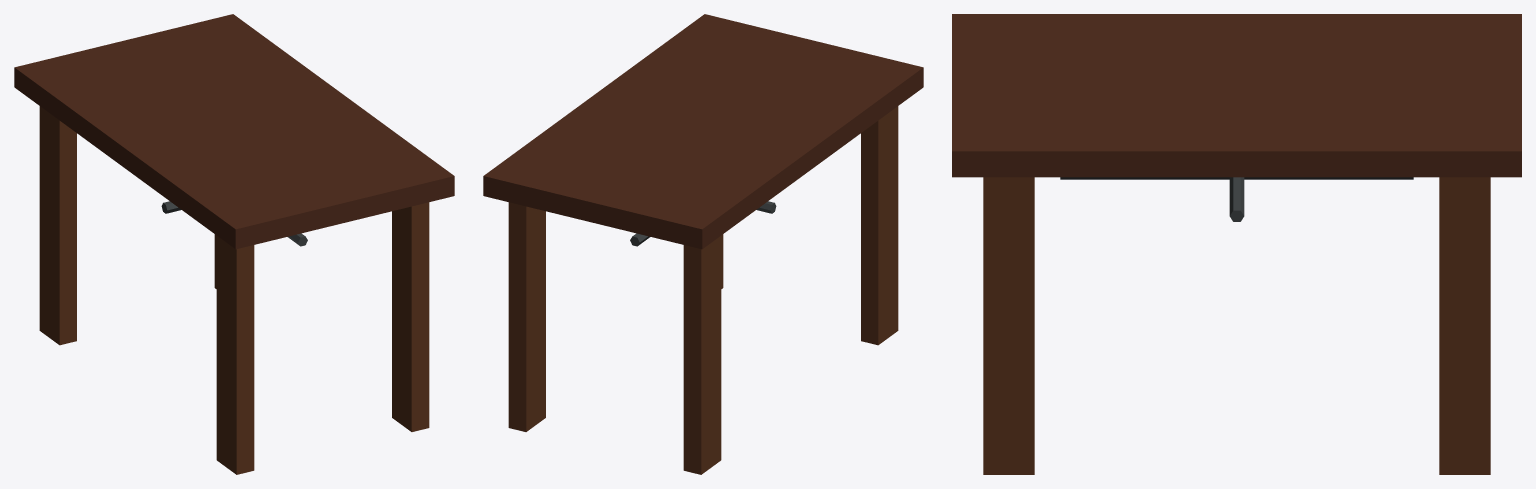
The model's file is table_football.glb.
3 views of the same model, side by side, from view 1: azimuth 30°, elevation 25°; view 2: azimuth 150°, elevation 25°; view 3: azimuth 270°, elevation 25° (orthographic). The views are drawn at different scales.
Visible parts, largest first — view 1: body; view 2: body; view 3: body, move_rods.
Part boxes in pixels (bbox=[...]): body: bbox=[14, 14, 454, 474]; body: bbox=[483, 14, 923, 474]; body: bbox=[952, 14, 1521, 474]; move_rods: bbox=[1060, 177, 1413, 221].
Size of the model in its own units: 0.798 by 0.898 by 1.4.
1 material, 1 textured.
